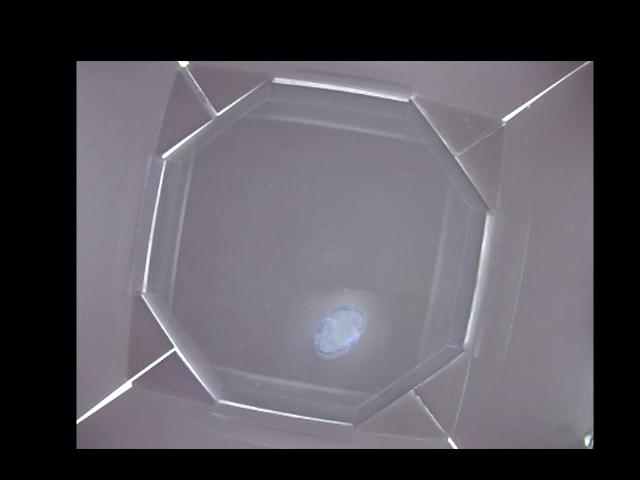Pebble: (314, 305, 365, 359)
